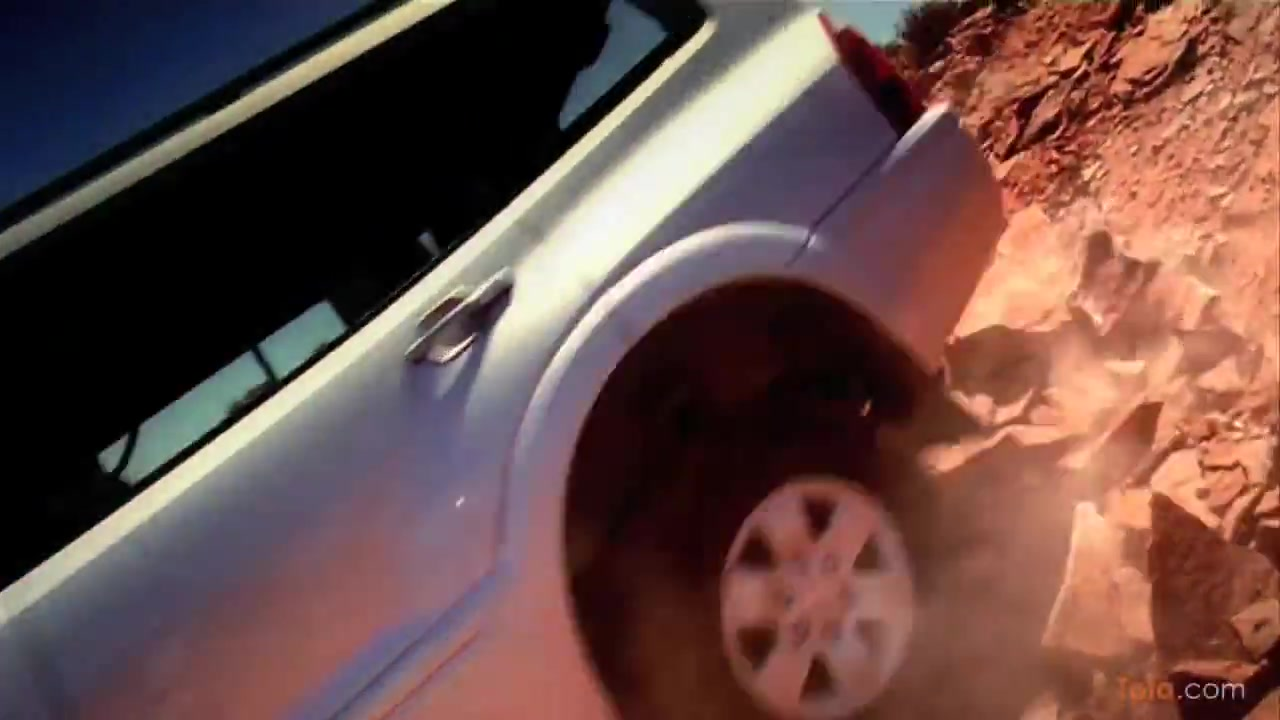car: (1, 2, 1008, 720)
